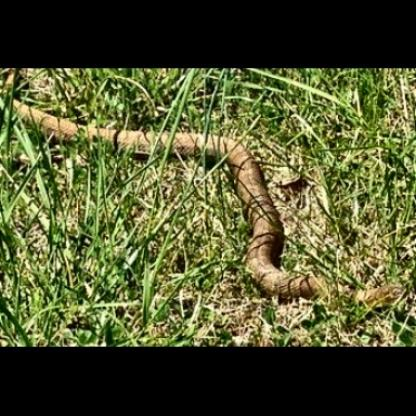Snake: (3, 110, 416, 320)
